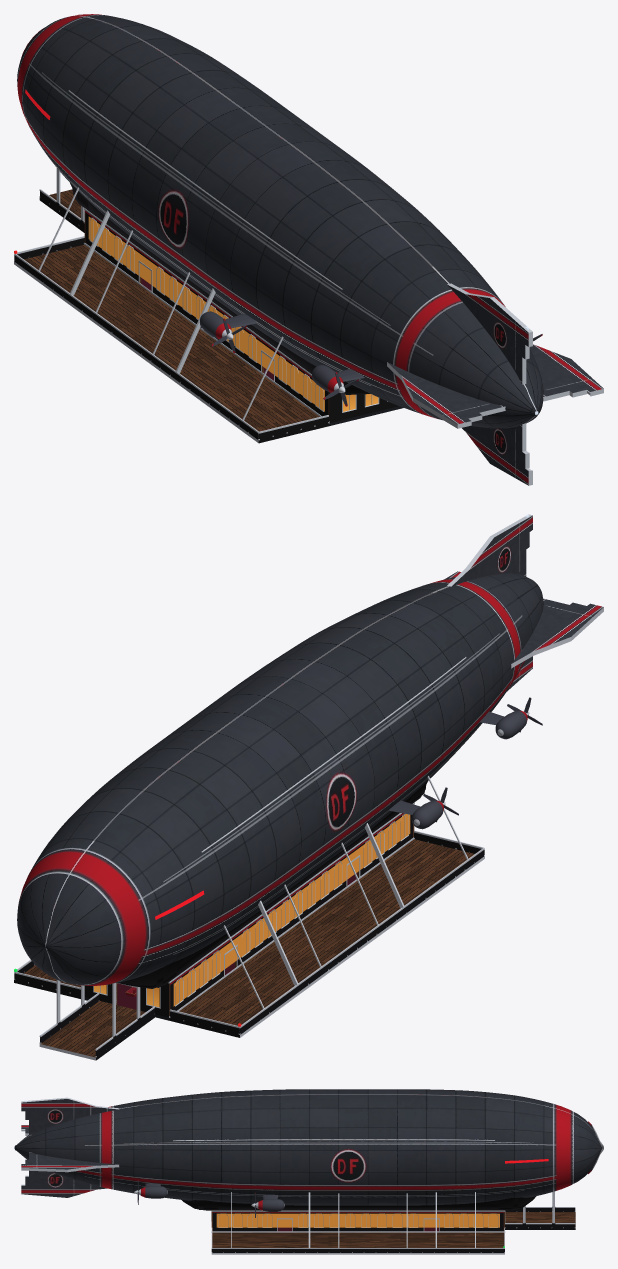
Rendered from zeppelin.59c58b16.glb.
The picture shows the model from 3 angles, top to bottom: view 1: azimuth 30°, elevation 25°; view 2: azimuth 150°, elevation 25°; view 3: azimuth 270°, elevation 25°; orthographic projection. The views are drawn at different scales.
Parts seen in each view (by area): view 1: zep_lod0_body, zep_lod2_body, zep_lod1_body; view 2: zep_lod0_body, zep_lod1_body, zep_lod2_body; view 3: zep_lod0_body, zep_lod2_body, zep_lod1_body.
Part boxes in pixels (left/top/right/bottom): zep_lod0_body: left=14, top=14, right=603, bottom=485; zep_lod2_body: left=27, top=27, right=603, bottom=485; zep_lod1_body: left=14, top=15, right=536, bottom=439; zep_lod0_body: left=14, top=514, right=603, bottom=1060; zep_lod1_body: left=14, top=578, right=535, bottom=1056; zep_lod2_body: left=26, top=514, right=603, bottom=1006; zep_lod0_body: left=14, top=1089, right=603, bottom=1254; zep_lod2_body: left=15, top=1090, right=598, bottom=1227; zep_lod1_body: left=65, top=1090, right=603, bottom=1252.
Bounding box in the file's own units: 35.05 × 28.7 × 121.
2 materials, 2 textured.
